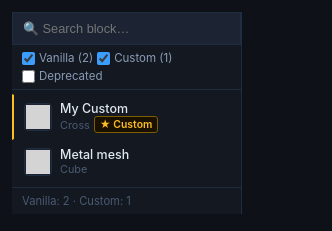
Test: Sidebar › finds blocks by numeric identifier even when its name and type do not match
Type "2" into the field with placeholder "🔍 Search block…". click: [126, 28]
box: [12,12,241,45]
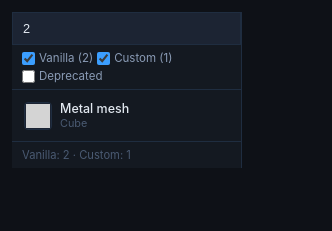
Expected: the text "Metal mesh" is shown, [60,101,129,116]
Now the button "My Custom" is gone
